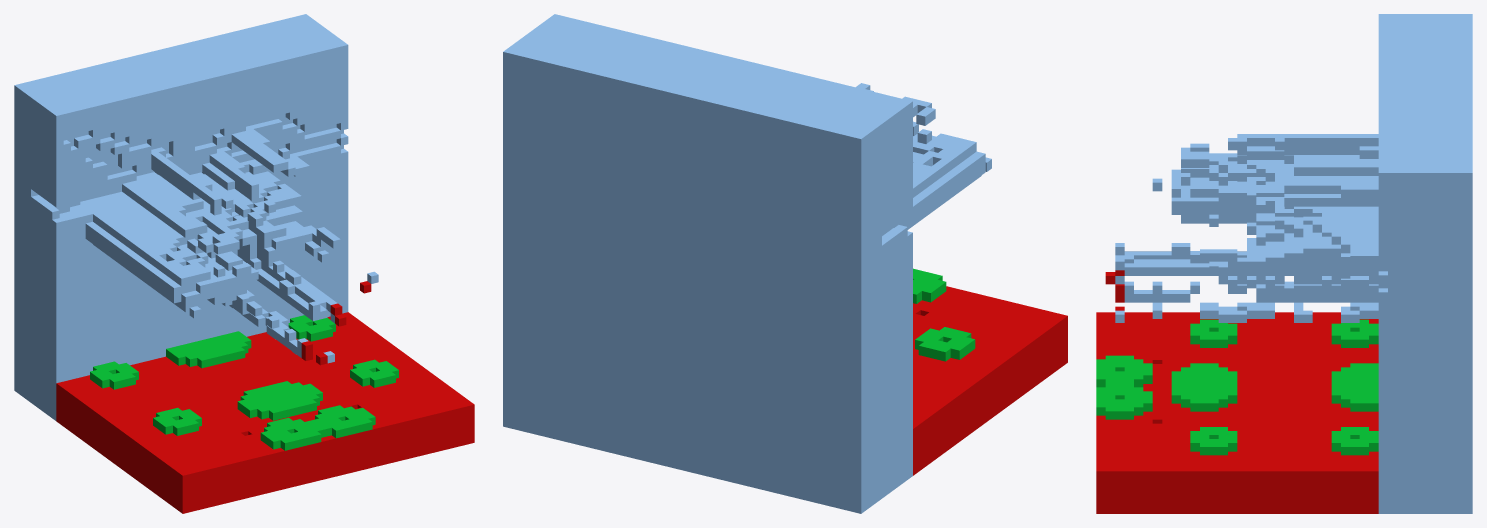
Rendered from sample01.obj.
3 renders of one model, left to right at view 1: azimuth 30°, elevation 25°; view 2: azimuth 150°, elevation 25°; view 3: azimuth 270°, elevation 25°, orthographic. The views are drawn at different scales.
Size of the model in its own units: 4 by 4 by 4.
